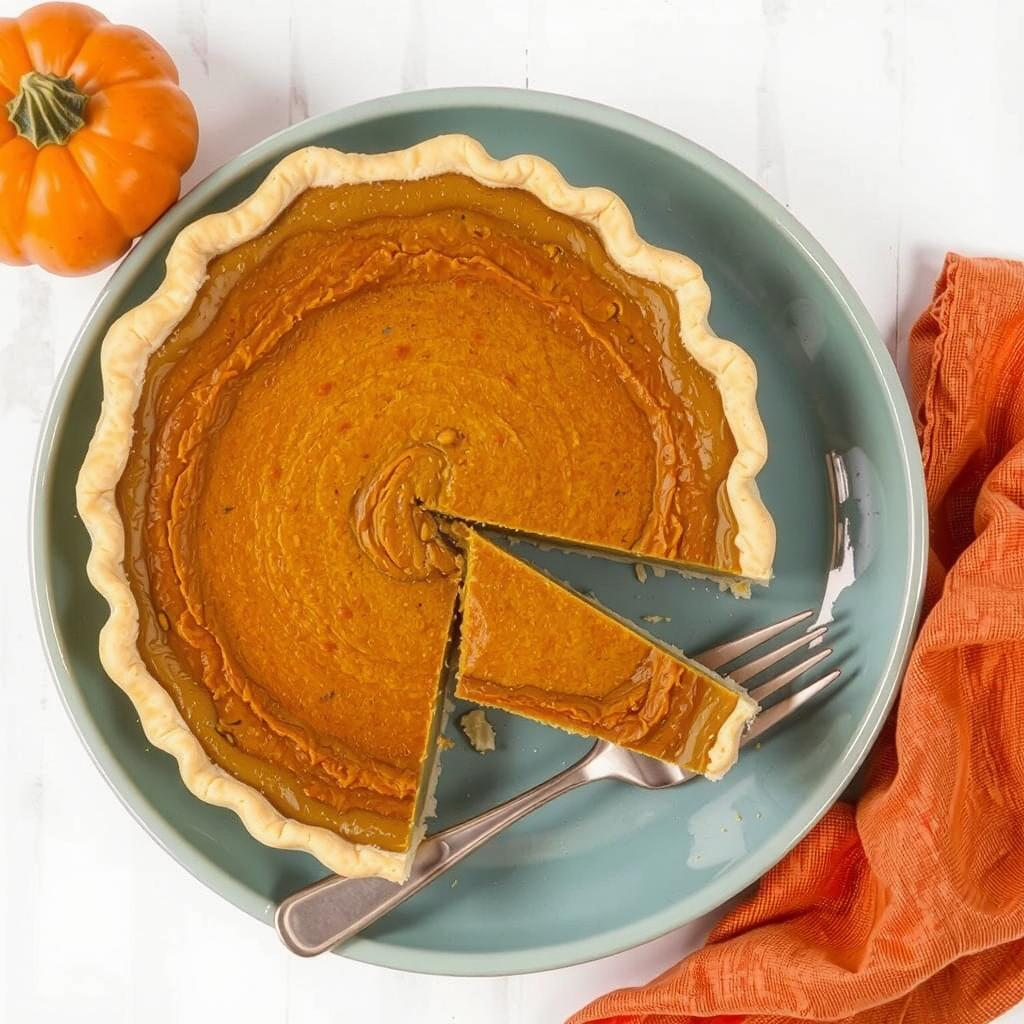pie: (70, 130, 781, 897)
